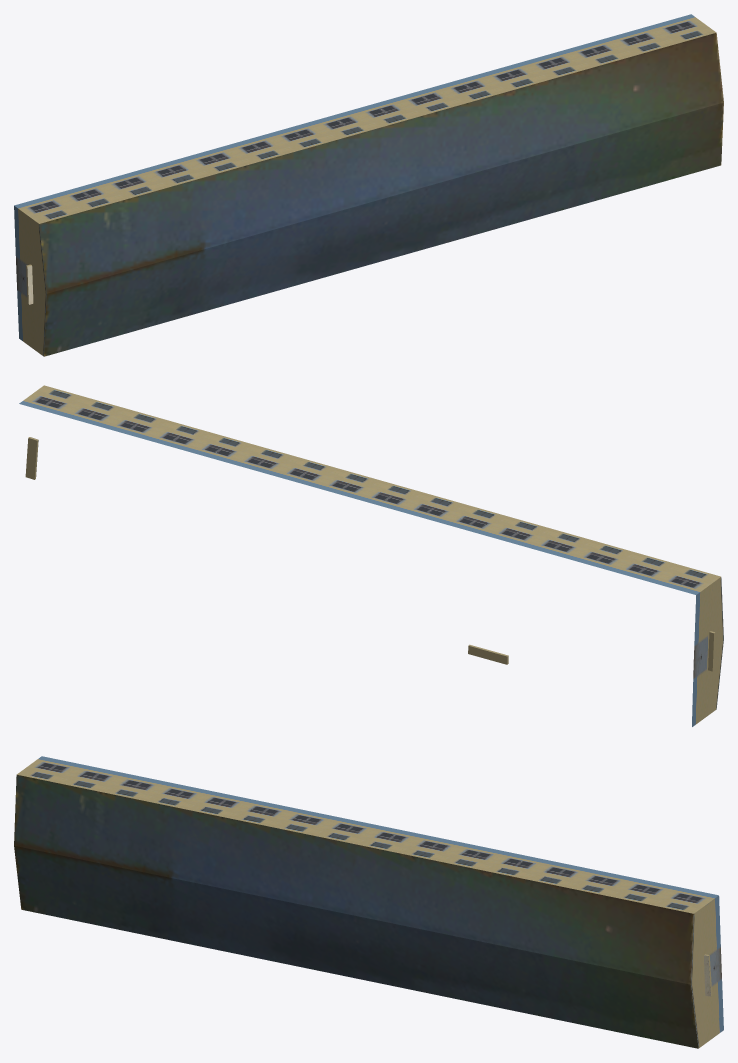
3 renders of one model, top to bottom at view 1: azimuth 30°, elevation 25°; view 2: azimuth 150°, elevation 25°; view 3: azimuth 330°, elevation 25°, orthographic.
Visible parts, largest first — view 1: Group_MatrixTransform_i96169_Geometry_5, Group_MatrixTransform_i96169_Geometry_2, Group_MatrixTransform_i96169_Geometry_0, Group_MatrixTransform_i96169_Geometry_3; view 2: Group_MatrixTransform_i96169_Geometry_2, Group_MatrixTransform_i96169_Geometry_3, Group_MatrixTransform_i96169_Geometry_0; view 3: Group_MatrixTransform_i96169_Geometry_5, Group_MatrixTransform_i96169_Geometry_2, Group_MatrixTransform_i96169_Geometry_0, Group_MatrixTransform_i96169_Geometry_3.
Boxes of the visible parts, x1,y1,x2,y2 form: Group_MatrixTransform_i96169_Geometry_5: [39, 32, 723, 356]; Group_MatrixTransform_i96169_Geometry_2: [14, 14, 715, 223]; Group_MatrixTransform_i96169_Geometry_0: [14, 206, 34, 349]; Group_MatrixTransform_i96169_Geometry_3: [26, 218, 46, 356]; Group_MatrixTransform_i96169_Geometry_2: [19, 385, 720, 594]; Group_MatrixTransform_i96169_Geometry_3: [25, 437, 723, 715]; Group_MatrixTransform_i96169_Geometry_0: [692, 583, 712, 726]; Group_MatrixTransform_i96169_Geometry_5: [14, 775, 698, 1048]; Group_MatrixTransform_i96169_Geometry_2: [17, 756, 718, 913]; Group_MatrixTransform_i96169_Geometry_0: [703, 896, 723, 1041]; Group_MatrixTransform_i96169_Geometry_3: [691, 907, 712, 1048].
Size of the model in its own units: 86.05 by 19.09 by 6.59.
7 materials, 7 textured.
